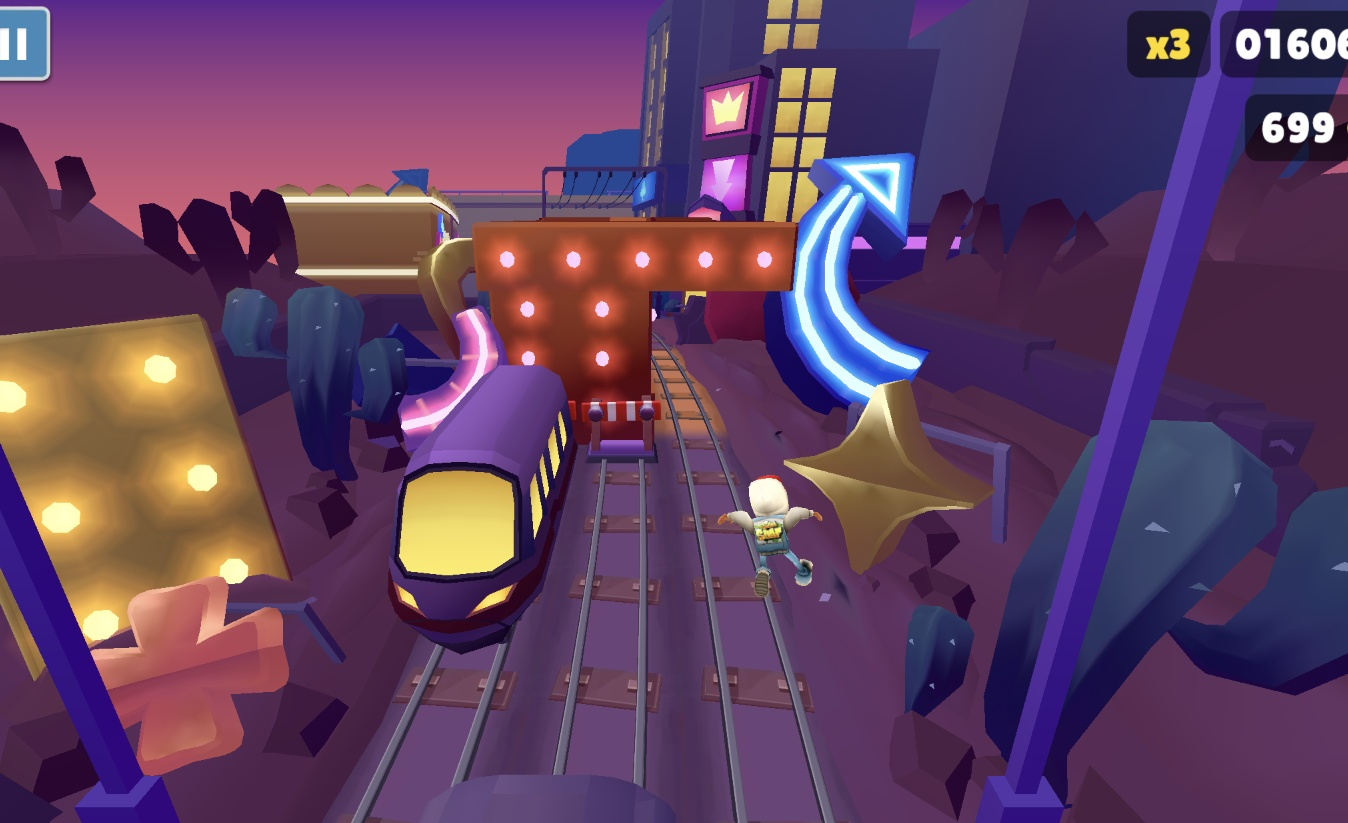ground_barrier: (583, 400, 657, 460)
pillar: (489, 290, 650, 400)
train: (381, 363, 576, 656), (431, 773, 698, 823)
